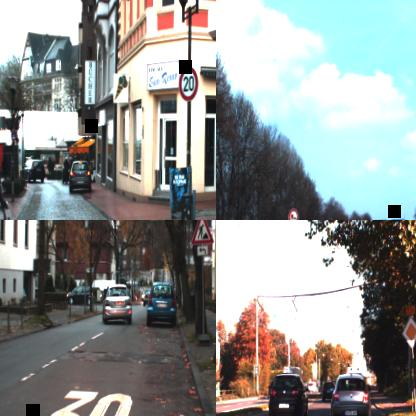CONSTRUCTION: (190, 220, 214, 244)
no overtaking -trucks-: (287, 207, 298, 220)
priority road: (401, 314, 416, 348)
speed limit 20: (177, 66, 198, 101)
